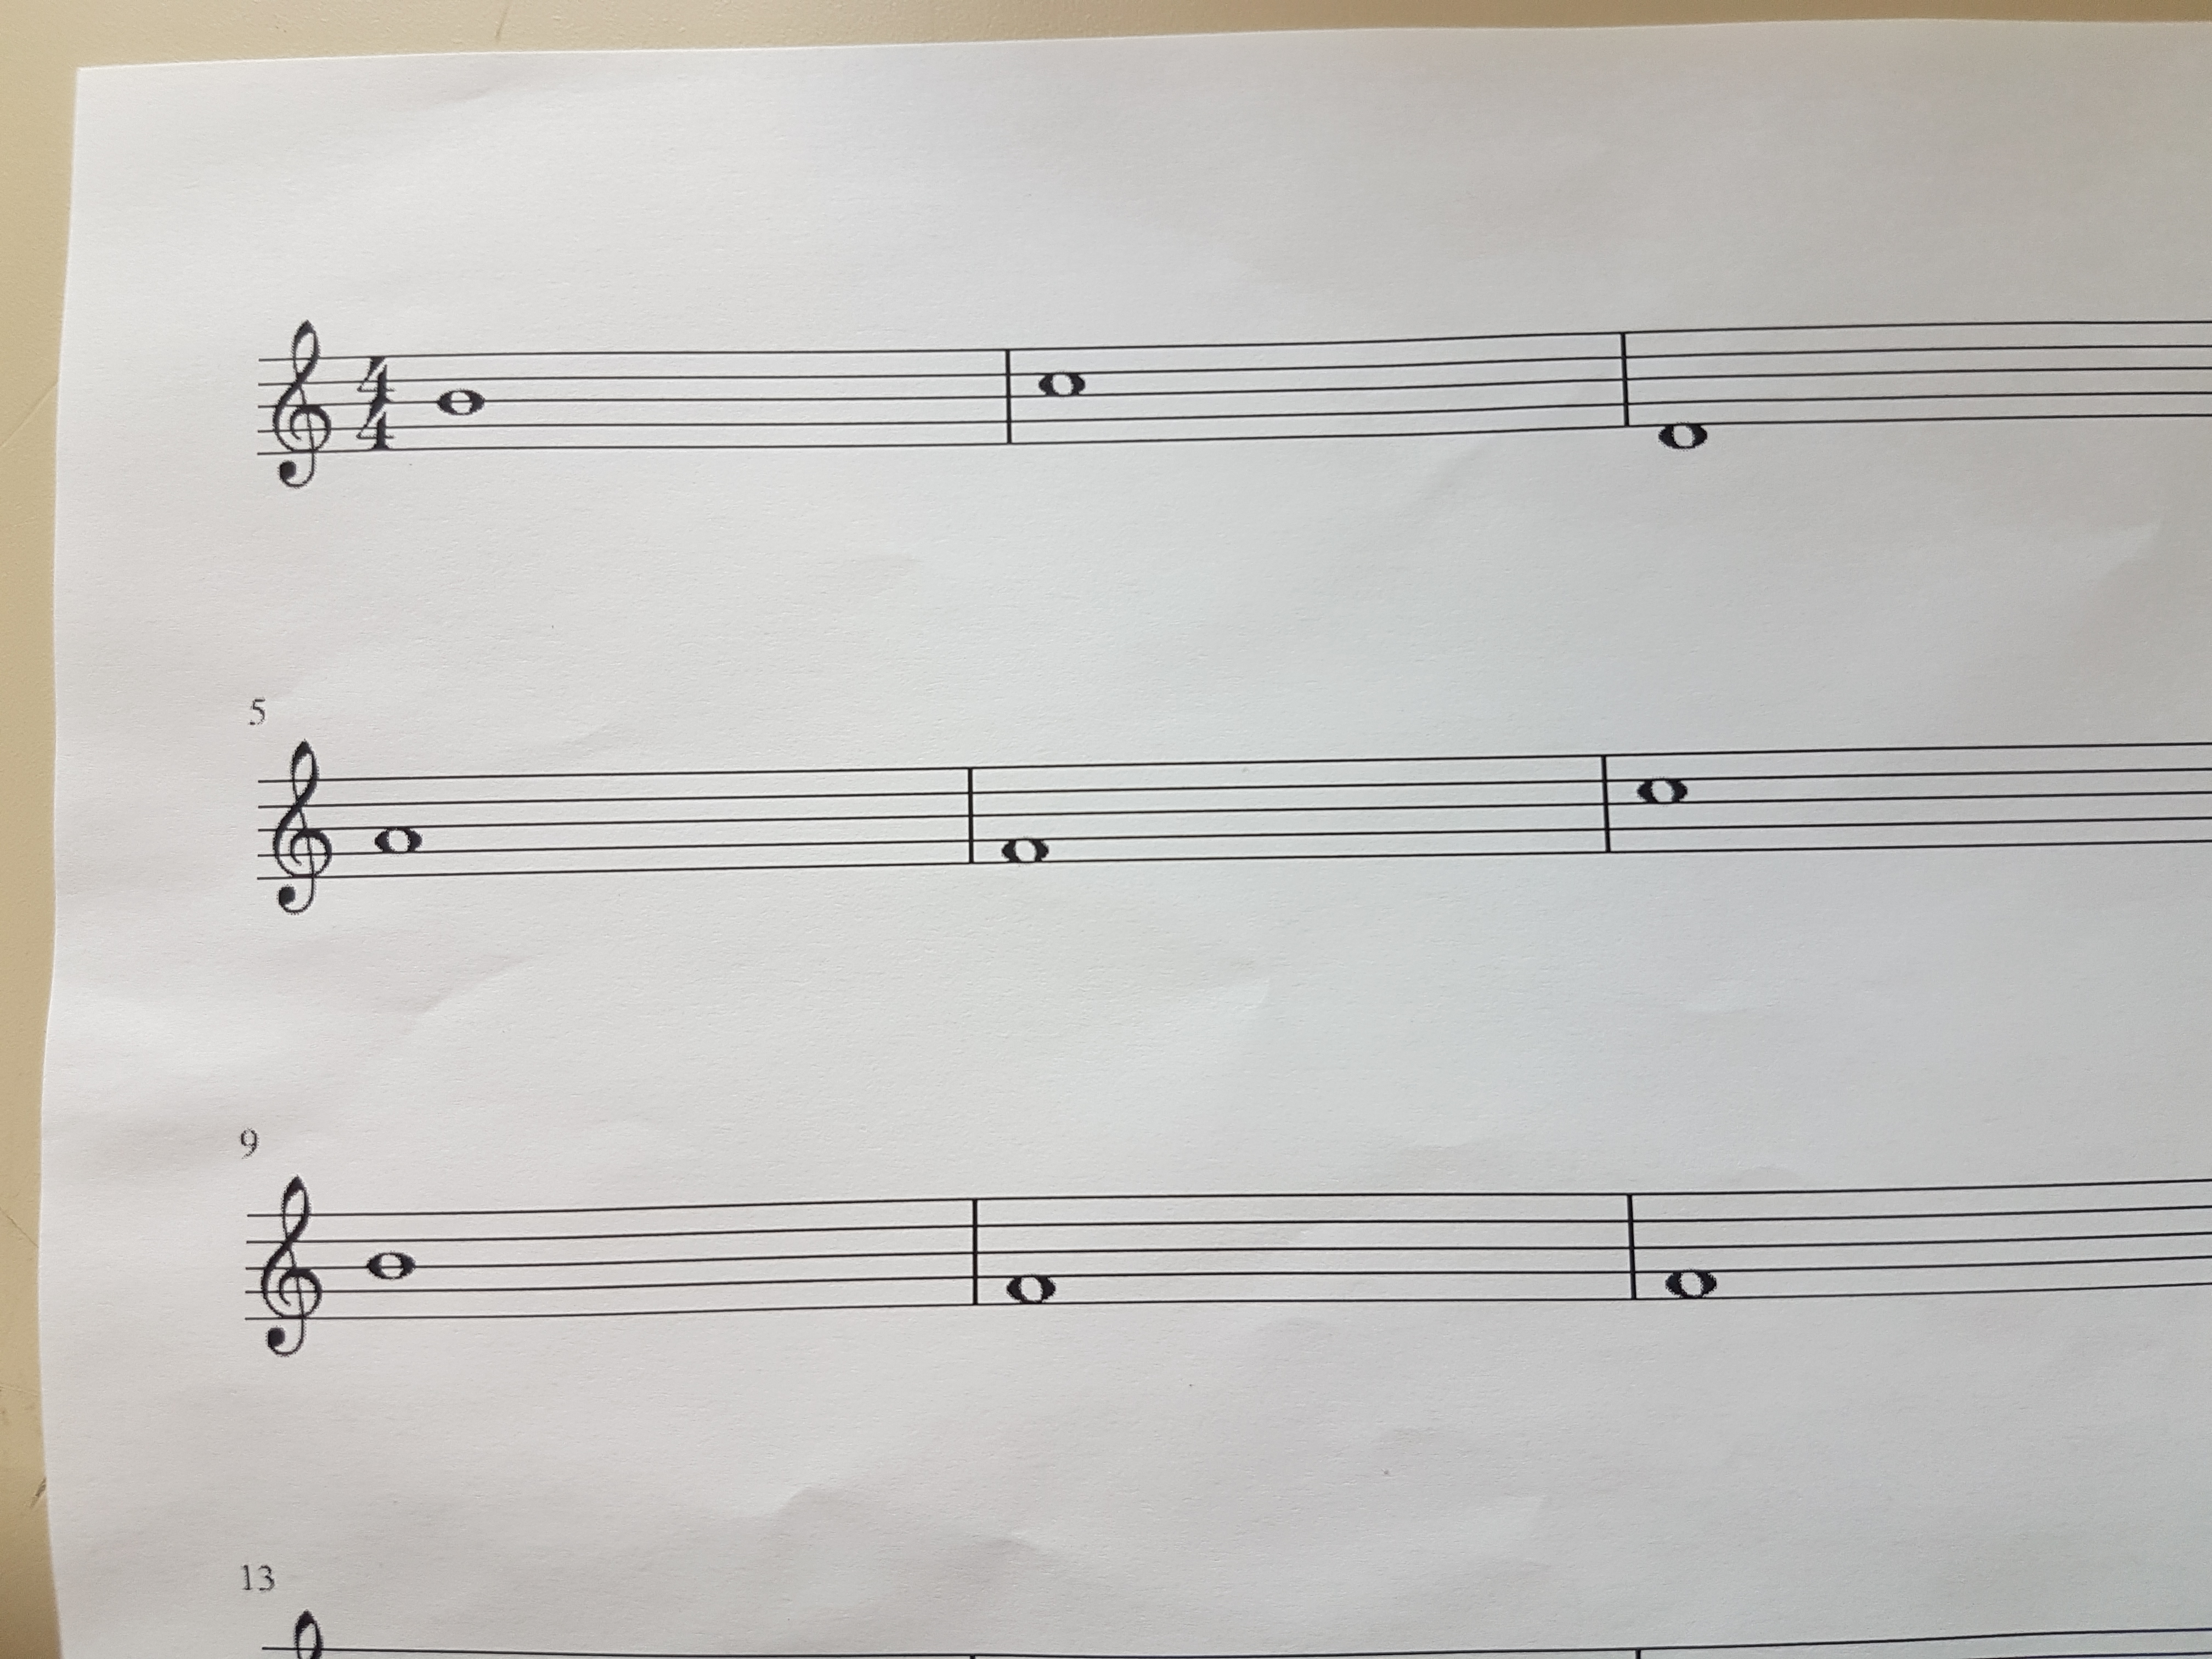semibreve_a: (366, 746, 434, 915)
semibreve_c: (1629, 713, 1696, 887), (1033, 314, 1094, 469)
semibreve_d: (1649, 298, 1714, 479)
semibreve_f: (1660, 1155, 1726, 1345), (1001, 1162, 1066, 1351), (993, 725, 1061, 899)
semibreve_h: (357, 1180, 423, 1356), (428, 326, 493, 481)
